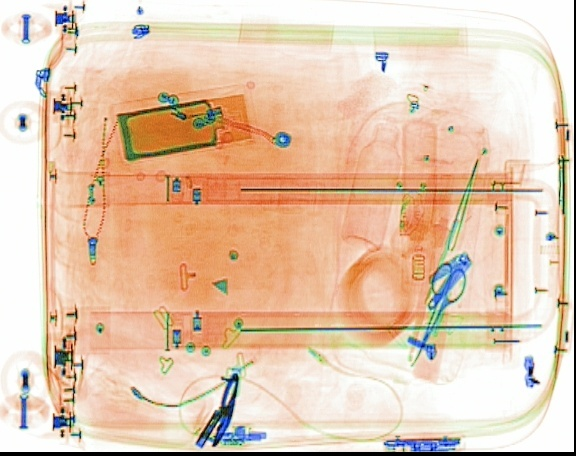scissors: (409, 260, 466, 365)
